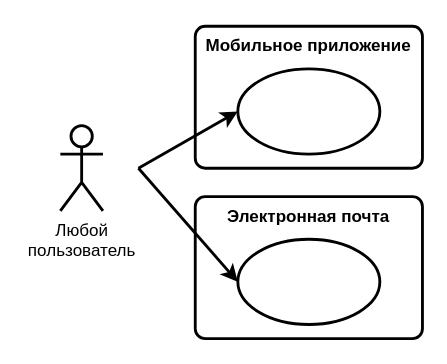
The diagram is 447 pixels wide and 364 high, and some of its shapes have lost their labels. Each missing label, with the centre of its shape:
Активация аккаунта: point 308,281
Регистрация: point 308,111
